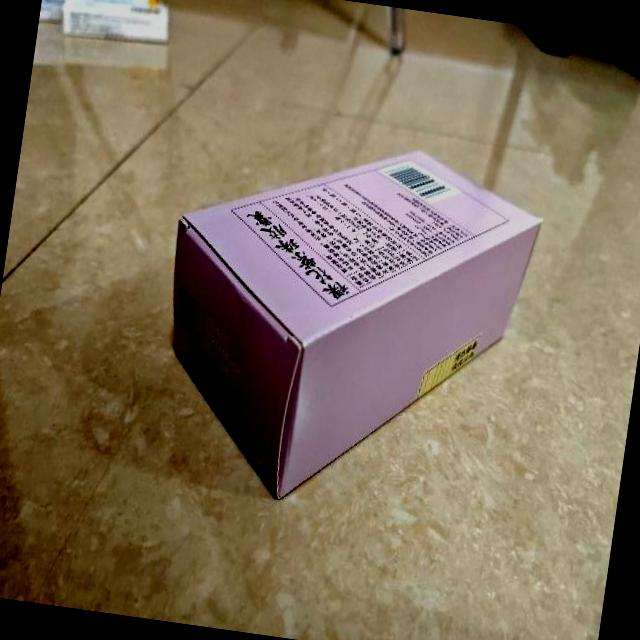box: (142, 116, 550, 534)
